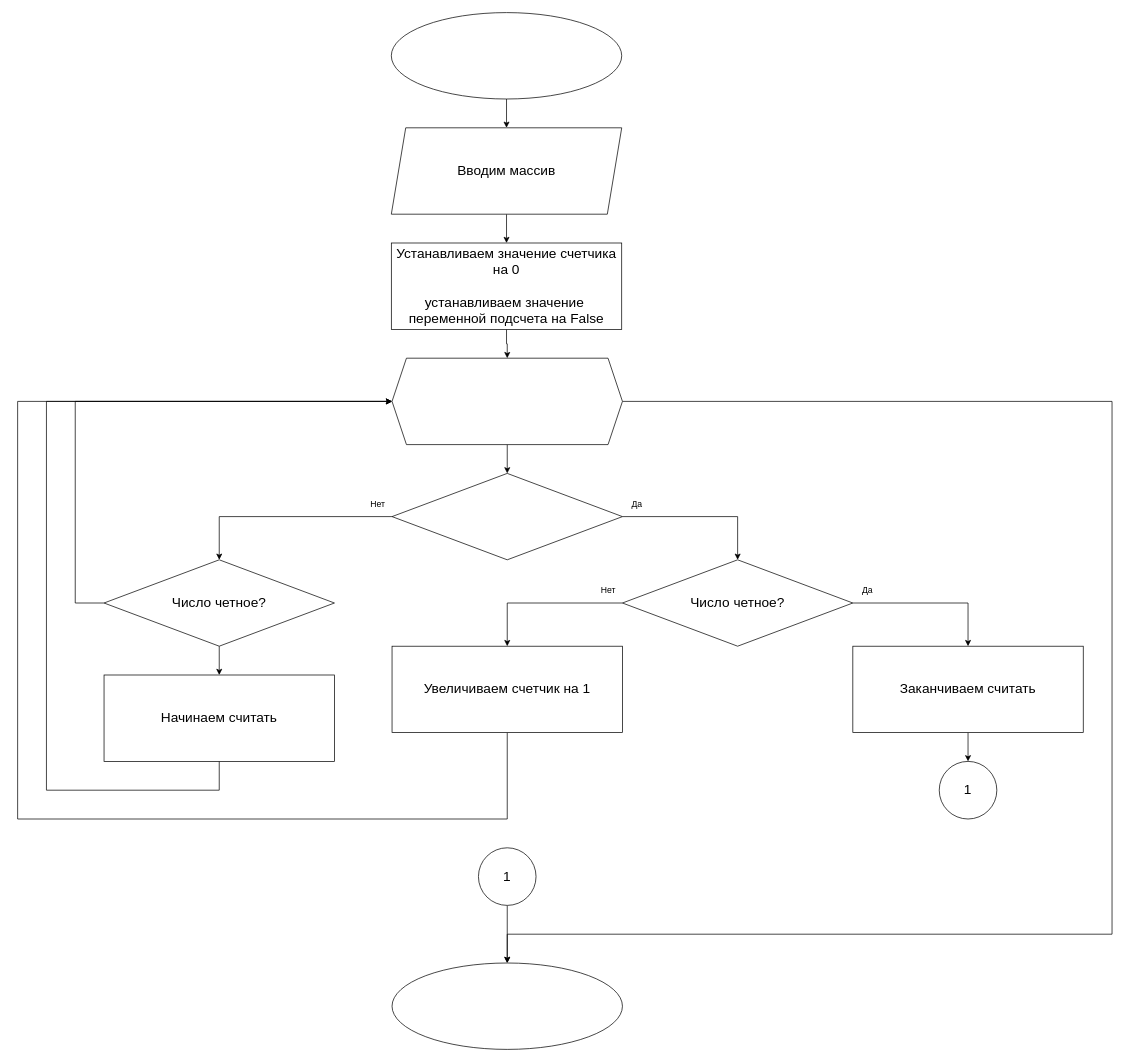
The diagram is 1130 pixels wide and 1062 high, and some of its shapes have lost their labels. Here are the shapes that lost their labels. From the top down, the centre of each, then its label:
At point (506, 55): "Начало".
At point (506, 401): "Для каждого элемента массива".
At point (506, 516): "Сейчас считаем?".
At point (506, 1005): "Конец".
